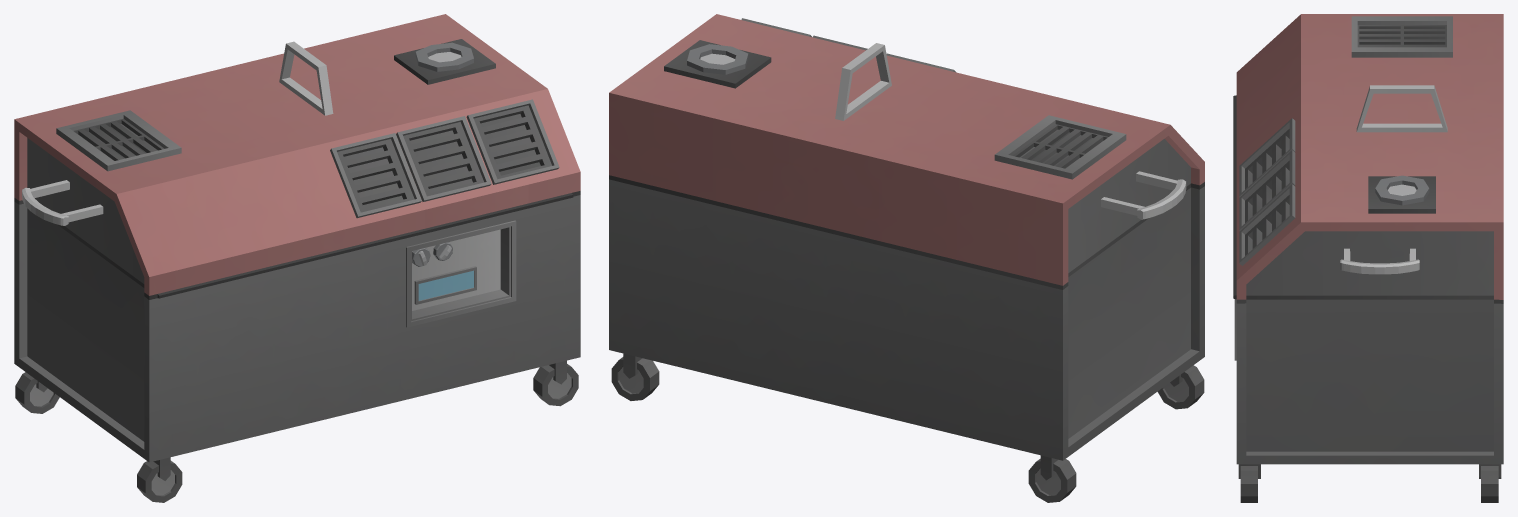
The model's file is generator_1.glb.
3 views of the same model, side by side, from view 1: azimuth 30°, elevation 25°; view 2: azimuth 150°, elevation 25°; view 3: azimuth 270°, elevation 25° (orthographic). The views are drawn at different scales.
Visible parts, largest first — view 1: generator_body, wheel_3; view 2: generator_body, wheel_3; view 3: generator_body, wheel_3.
Part boxes in pixels (x1,y1,x2,y2): generator_body: (14,14,580,480); wheel_3: (15,364,578,502); generator_body: (609,14,1204,480); wheel_3: (611,357,1204,502); generator_body: (1233,14,1503,478); wheel_3: (1240,466,1498,502).
Size of the model in its own units: 2.03 by 1.28 by 0.9487.
Materials: 1 (1 with a texture image).
